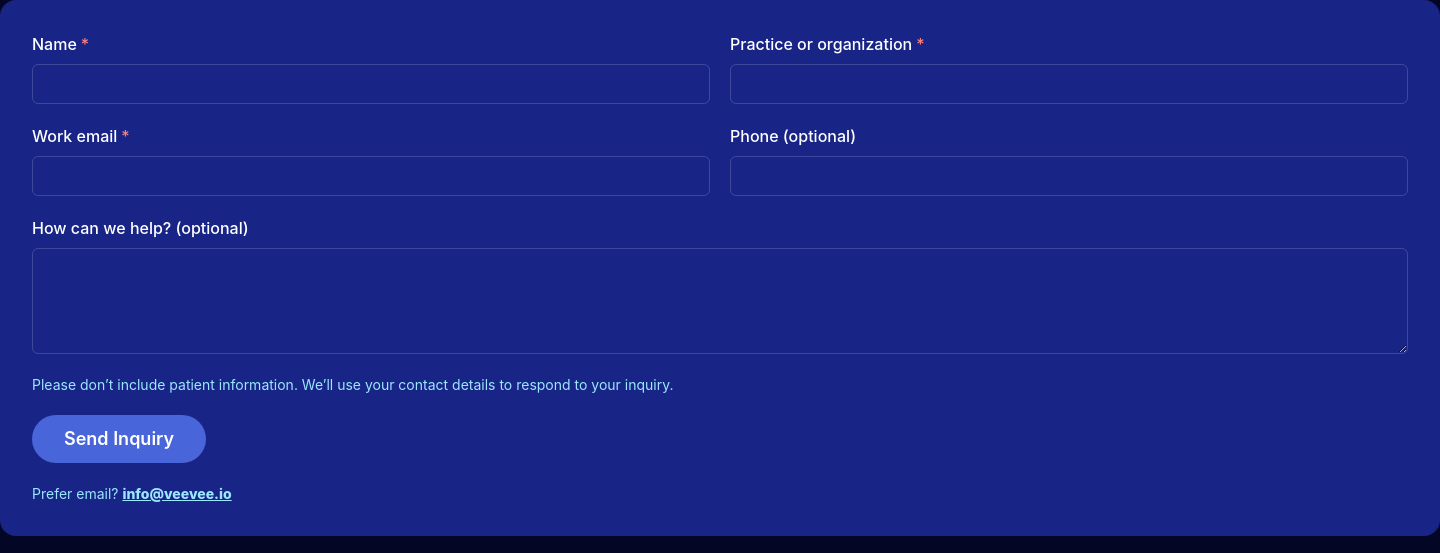
Scenario: Provider inquiry › submits contact details and replaces the form with confirmation only after success
Type "Test Contact" into the field labelled "Name*" at (371, 84), box [32, 64, 710, 104]
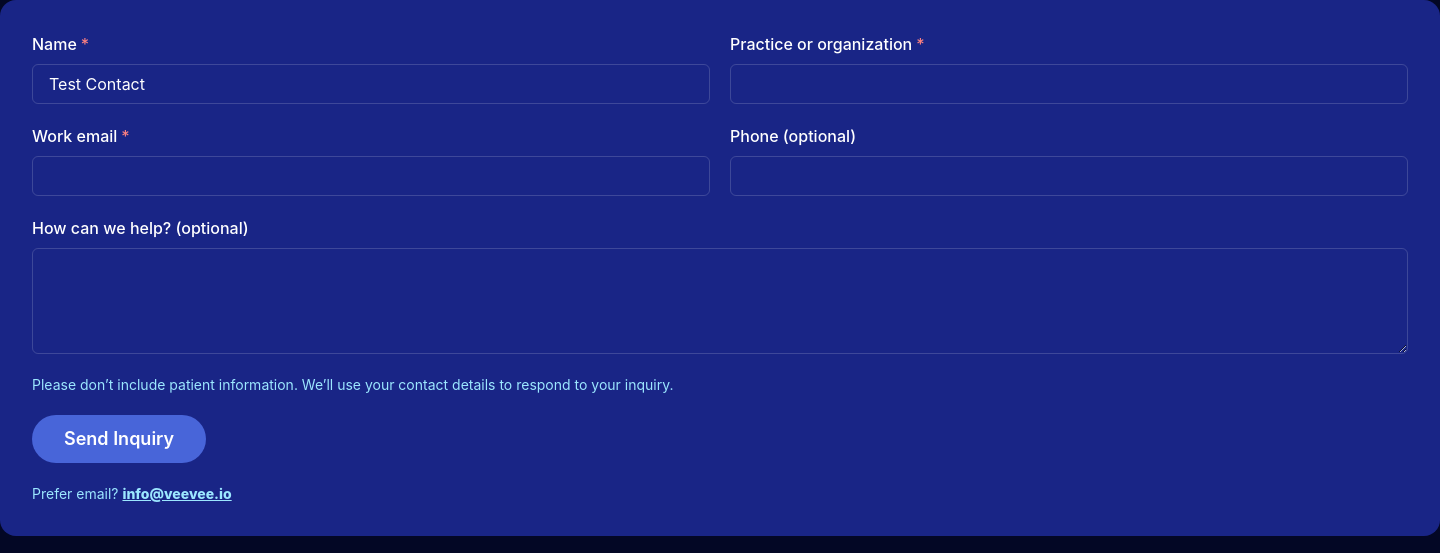
Type "Example Practice" into the field labelled "Practice or organization*" at (1069, 84), box [730, 64, 1408, 104]
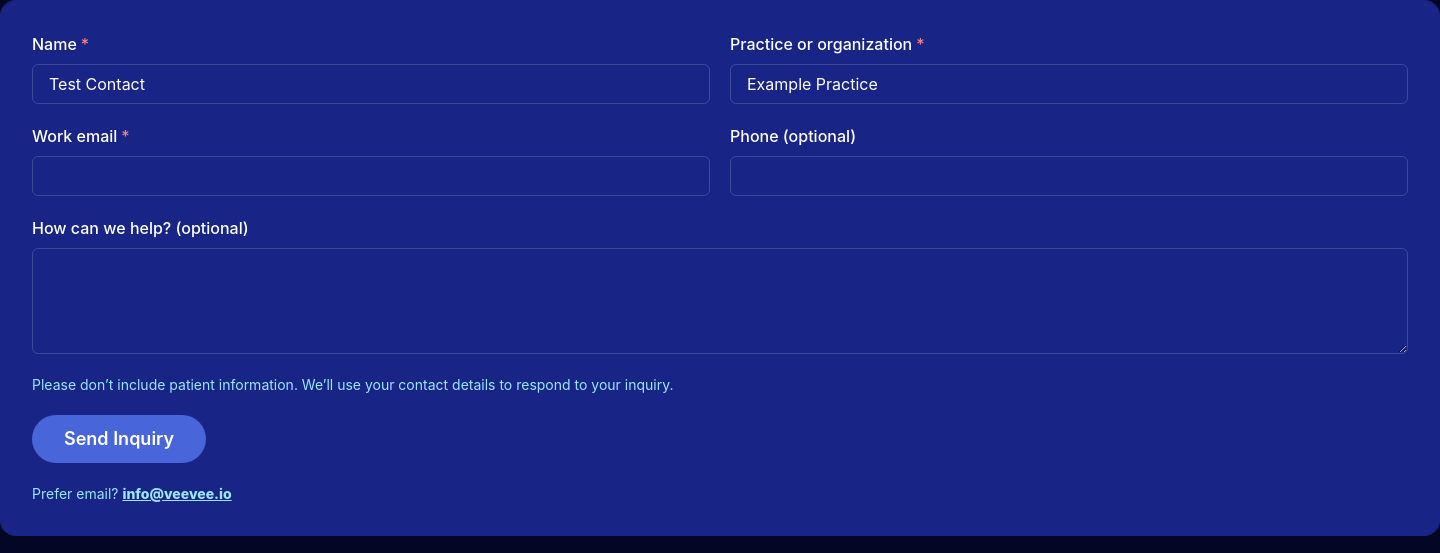
Type "person@example.com" into the field labelled "Work email*" at (371, 176), box [32, 156, 710, 196]
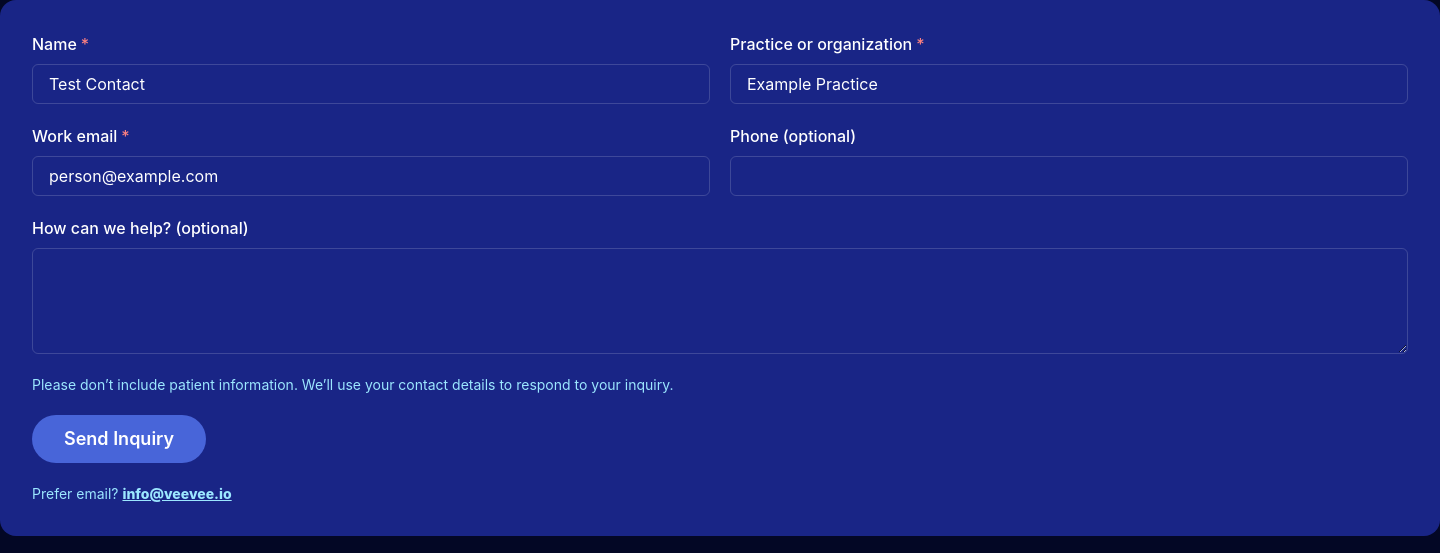
Submit the form named "Provider inquiry"
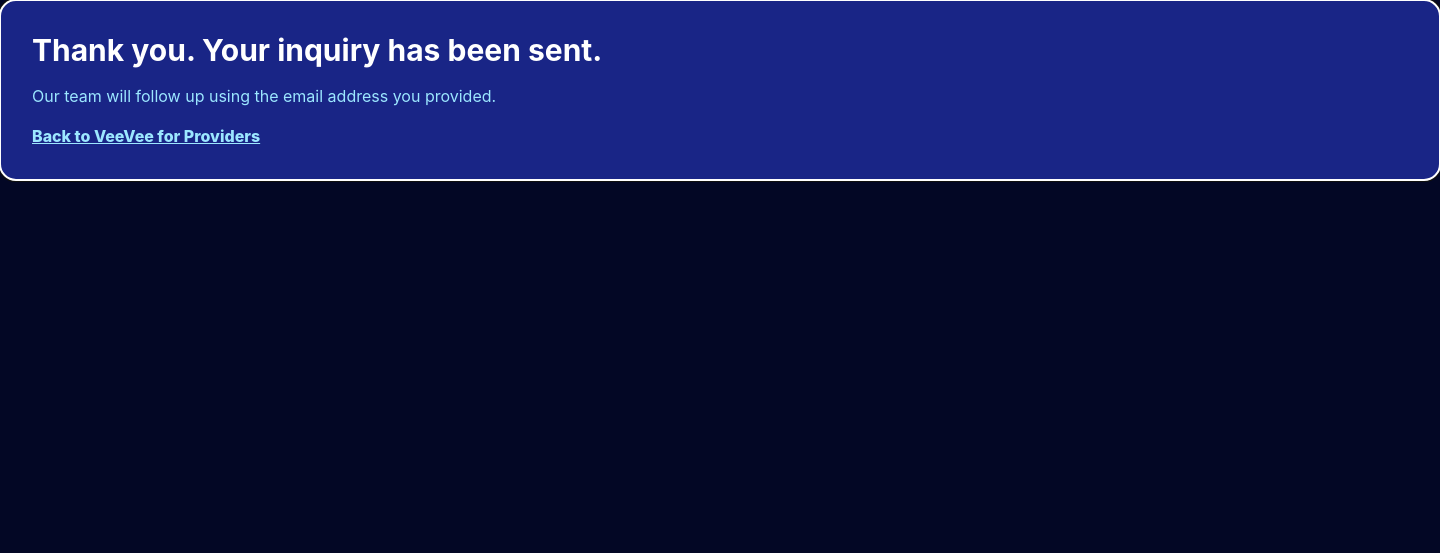
Now the heading "Thank you. Your inquiry has been sent." is shown, box [32, 32, 602, 68]
Now the form is gone
